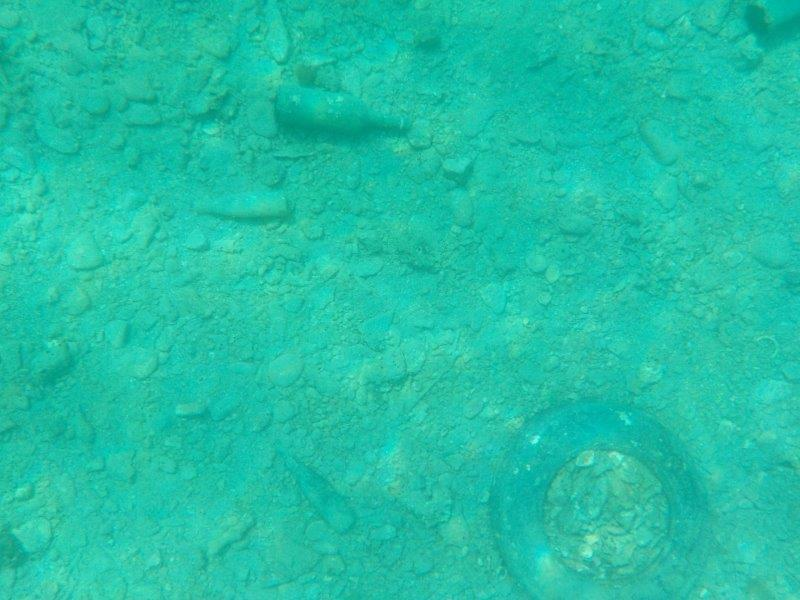bottle: (271, 80, 415, 139), (276, 450, 361, 537), (191, 188, 294, 223)
tire: (485, 397, 717, 600)
